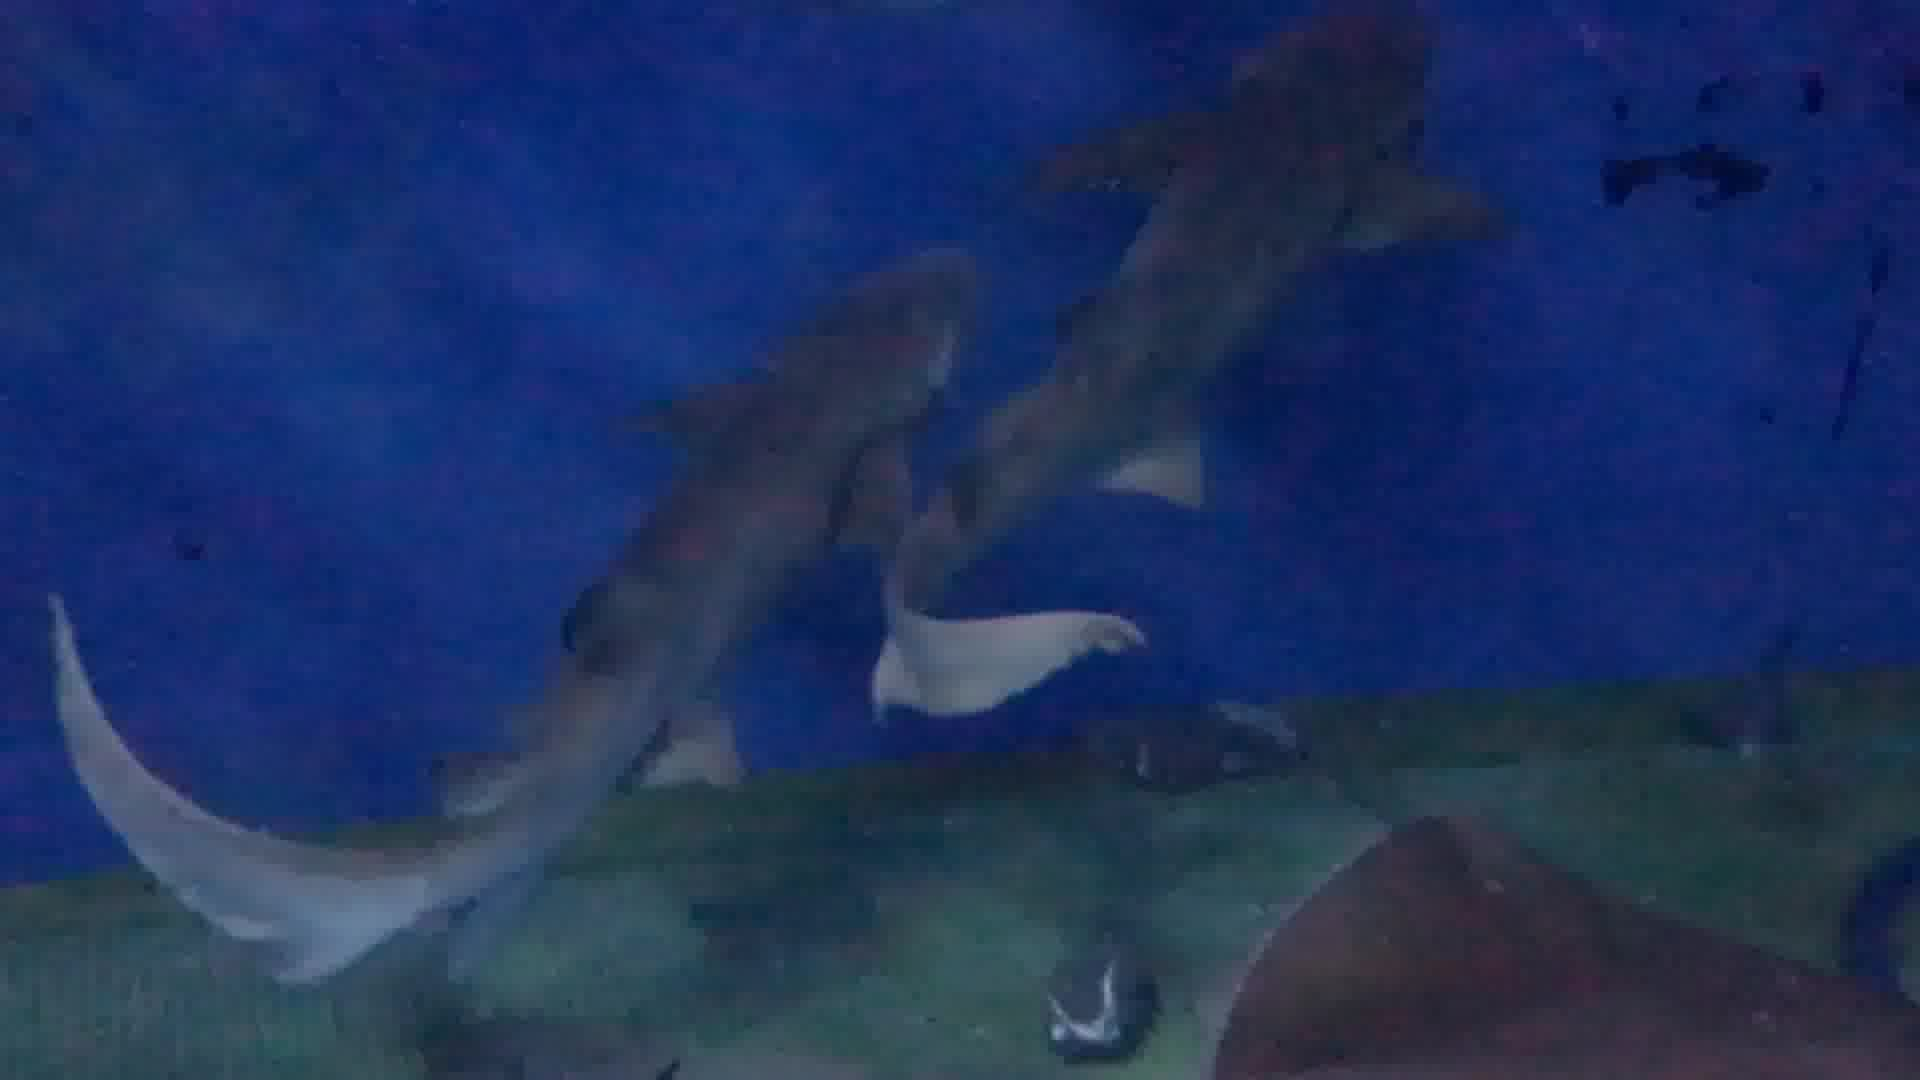Nebrius ferrugineus: (509, 200, 949, 843), (998, 1, 1437, 641)
